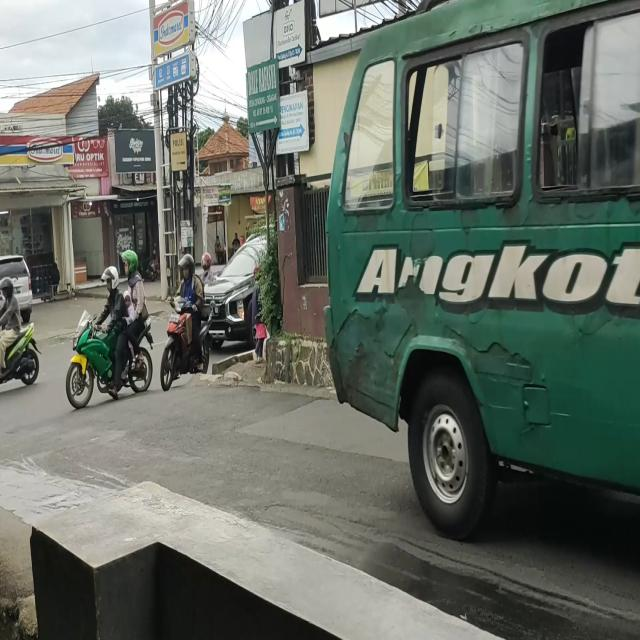helmet: (181, 253, 196, 285), (122, 251, 136, 279), (0, 276, 13, 304), (102, 266, 117, 288), (201, 256, 210, 271)
no-helmet: (124, 293, 131, 306)
